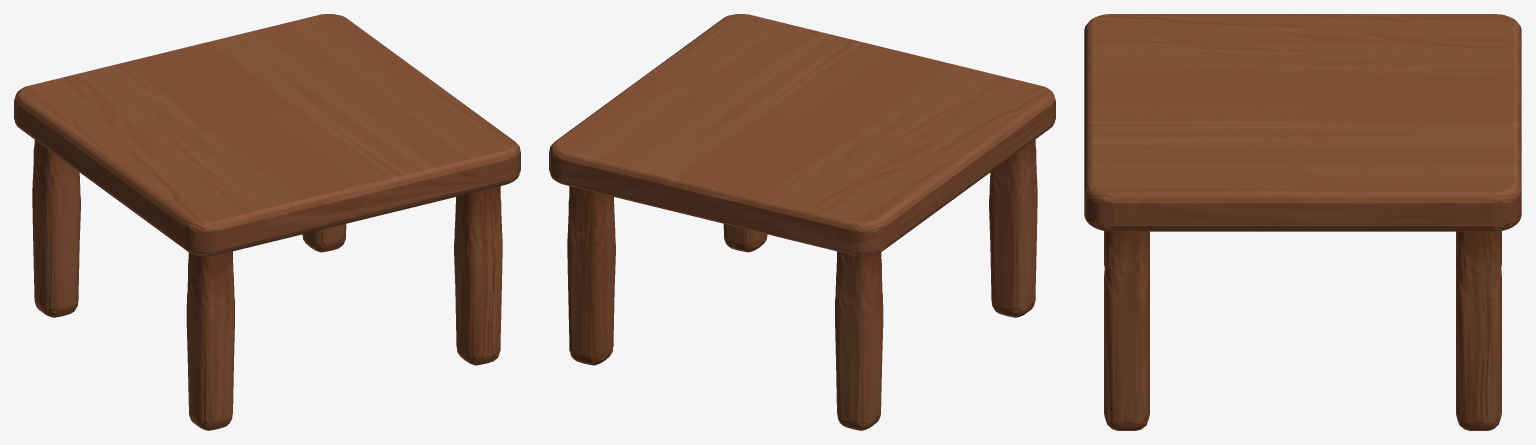
Rendered from diningtable.glb.
3 renders of one model, left to right at view 1: azimuth 30°, elevation 25°; view 2: azimuth 150°, elevation 25°; view 3: azimuth 270°, elevation 25°, orthographic. The views are drawn at different scales.
Visible parts, largest first — view 1: tripo_node_dcb2845a-4863-4f13-967e-c33dcc607f0b; view 2: tripo_node_dcb2845a-4863-4f13-967e-c33dcc607f0b; view 3: tripo_node_dcb2845a-4863-4f13-967e-c33dcc607f0b.
Part boxes in pixels (x1,y1,x2,y2): tripo_node_dcb2845a-4863-4f13-967e-c33dcc607f0b: [14, 14, 520, 430]; tripo_node_dcb2845a-4863-4f13-967e-c33dcc607f0b: [549, 14, 1055, 430]; tripo_node_dcb2845a-4863-4f13-967e-c33dcc607f0b: [1084, 14, 1521, 430].
Size of the model in its own units: 0.9938 by 0.6243 by 0.9938.
1 material, 1 textured.
